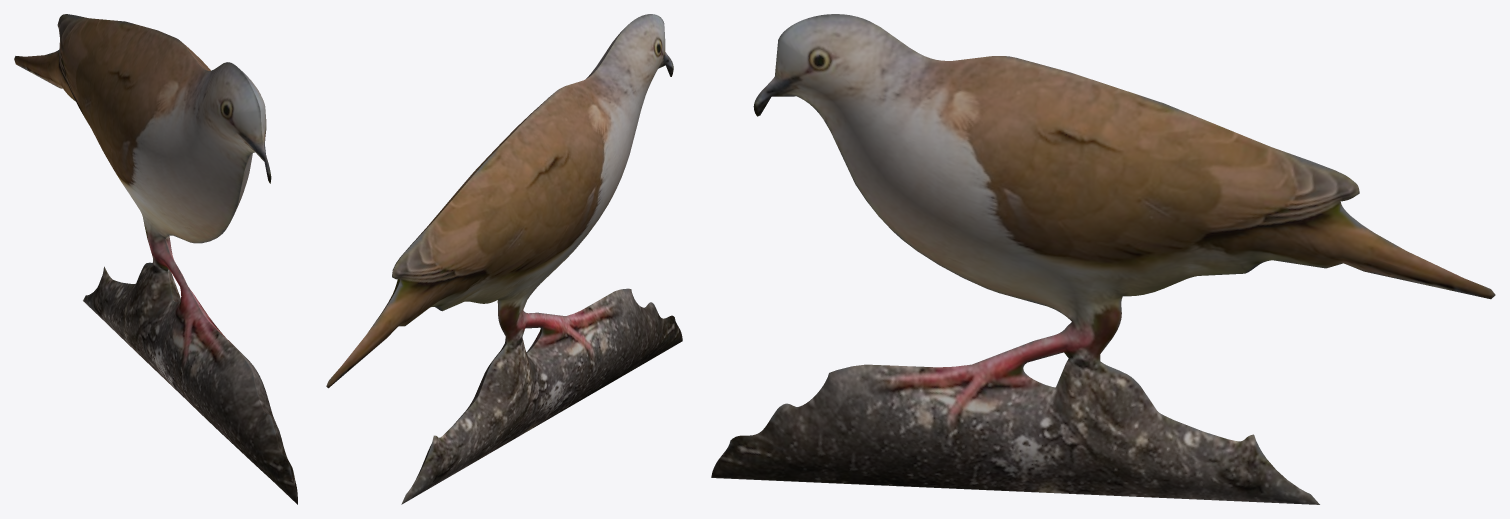
3 renders of one model, left to right at view 1: azimuth 30°, elevation 25°; view 2: azimuth 150°, elevation 25°; view 3: azimuth 270°, elevation 25°, orthographic. The views are drawn at different scales.
Visible parts, largest first — view 1: node1; view 2: node1; view 3: node1.
Boxes of the visible parts, x1,y1,x2,y2 form: node1: [14, 14, 297, 504]; node1: [326, 14, 682, 504]; node1: [711, 14, 1495, 504].
Bounding box in the file's own units: 0.2083 × 0.775 × 1.19.
Materials: 1 (1 with a texture image).
